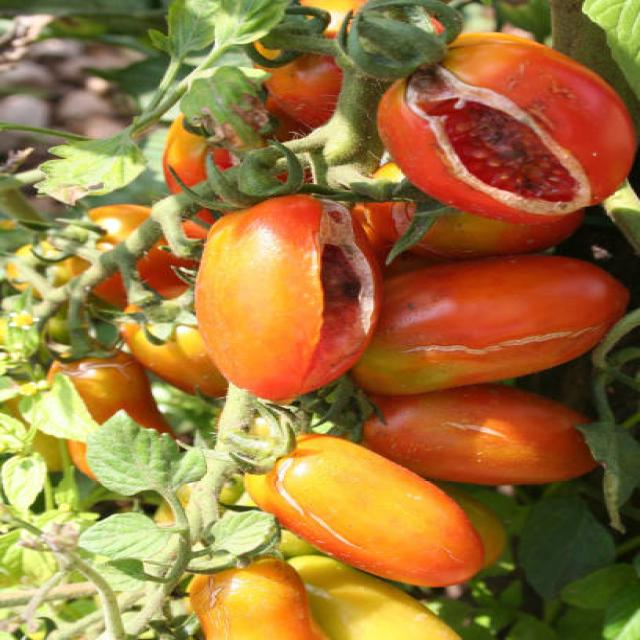damaged: (371, 25, 640, 239), (177, 188, 390, 403), (343, 248, 636, 398), (260, 436, 495, 591), (167, 553, 325, 640)
